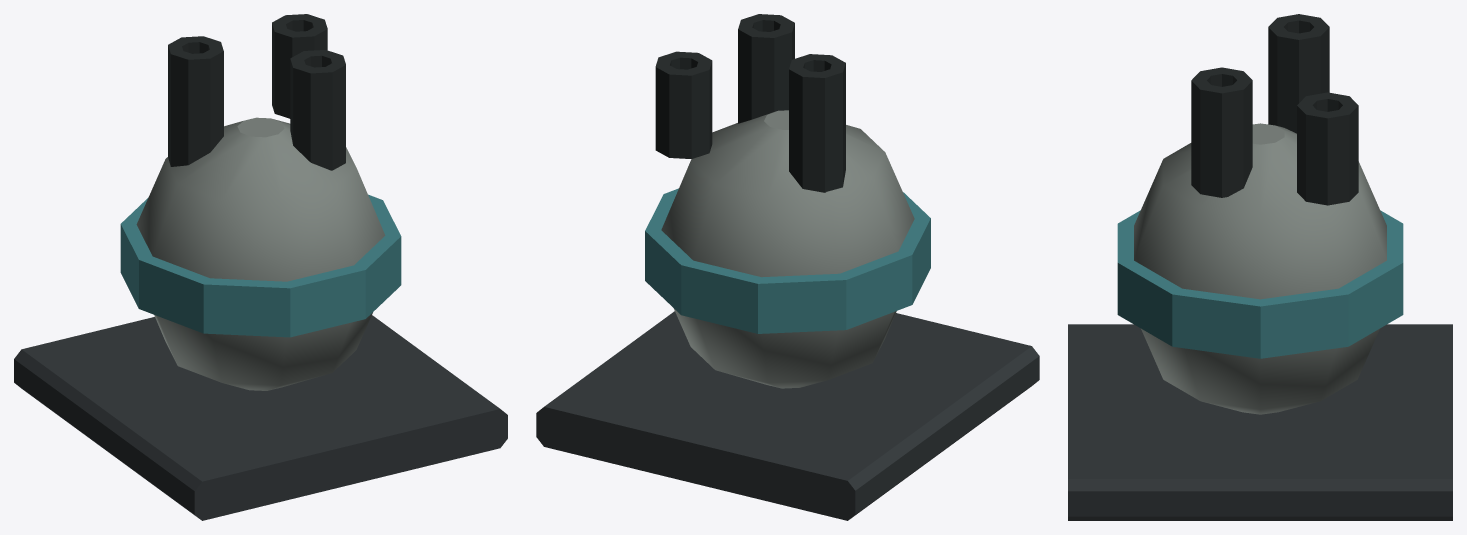
The model's file is SyntheticHeart.gltf.
3 renders of one model, left to right at view 1: azimuth 30°, elevation 25°; view 2: azimuth 150°, elevation 25°; view 3: azimuth 270°, elevation 25°, orthographic. The views are drawn at different scales.
Parts seen in each view (by area): view 1: SyntheticHeart; view 2: SyntheticHeart; view 3: SyntheticHeart.
Boxes of the visible parts, bbox=[...] form: SyntheticHeart: bbox=[14, 14, 507, 520]; SyntheticHeart: bbox=[536, 14, 1039, 520]; SyntheticHeart: bbox=[1068, 14, 1452, 520].
Size of the model in its own units: 0.2 by 0.225 by 0.2.
